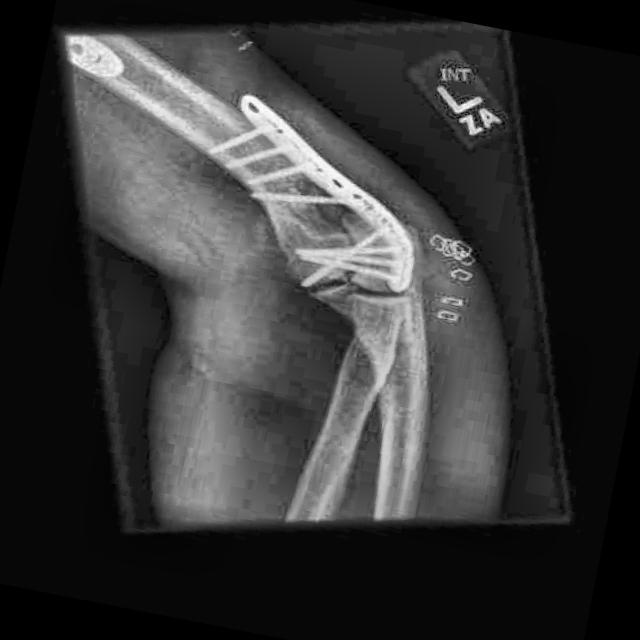elbow positive: (306, 207, 387, 274)
